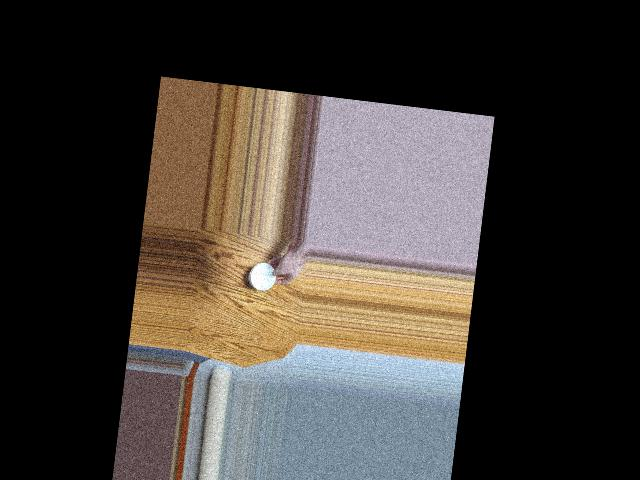cotage: (246, 259, 282, 298)
